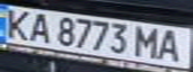3: (109, 20, 133, 55)
7: (90, 18, 112, 52), (72, 16, 93, 50)
8: (51, 14, 78, 47)
A: (154, 28, 187, 62), (24, 10, 54, 43)
K: (0, 7, 36, 40)
M: (130, 24, 163, 58)
